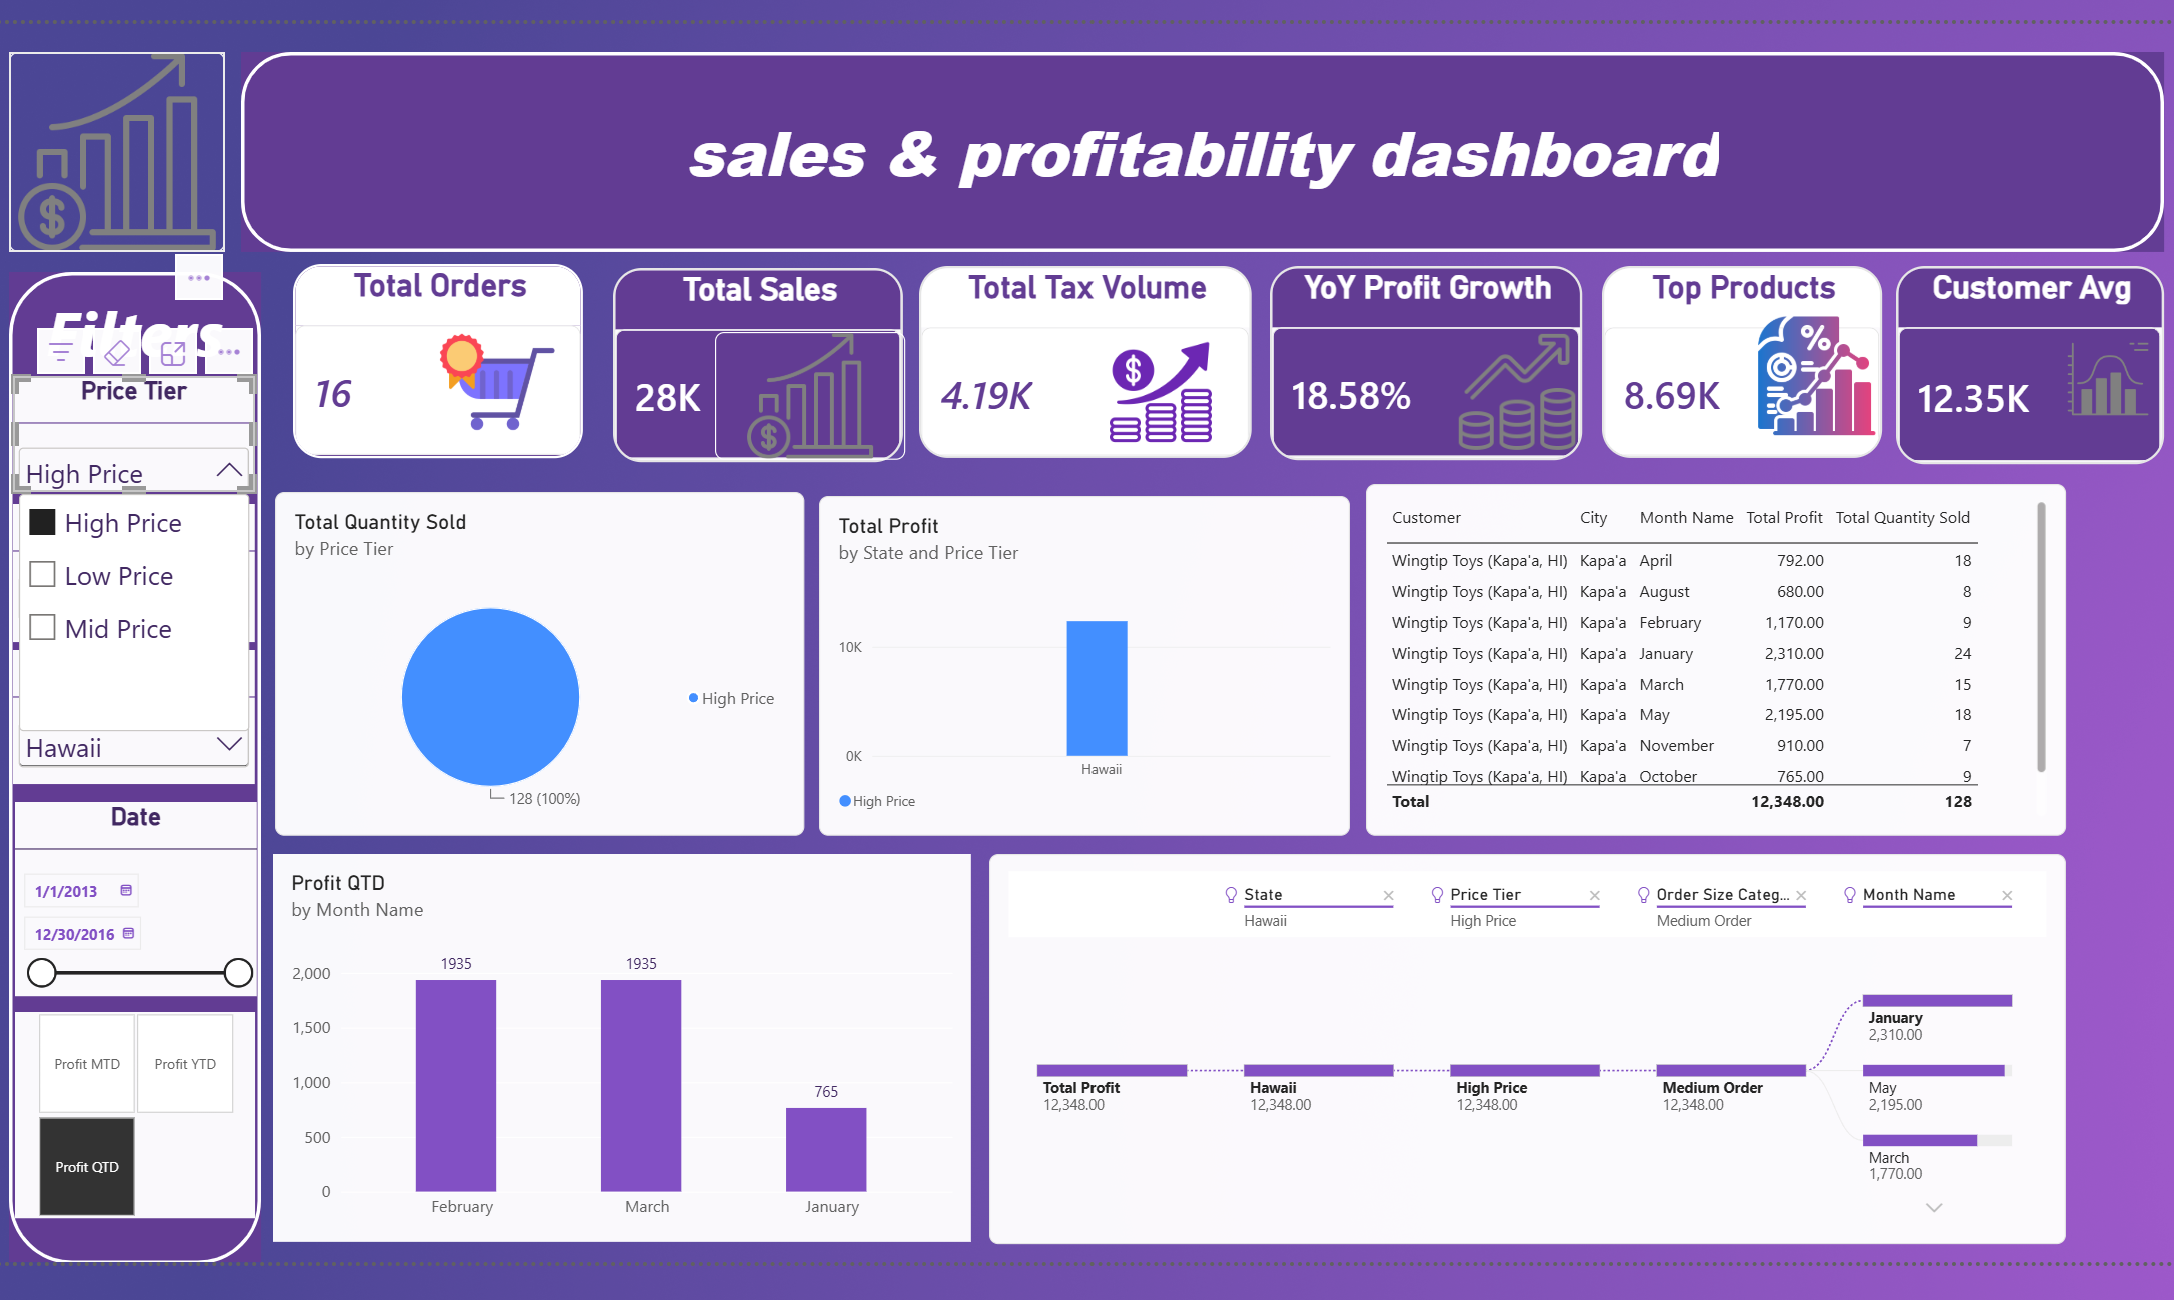

The dashboard page shown, as its layout file describes it:
{"tool":"powerbi","page":{"name":"DashBoard","canvas":[1920,1080],"ordinal":2},"visuals":[{"type":"cardVisual","title":"Total Orders","fields":{"Data":["Key Measures.Total Orders"]},"box":[261.8,209.5,253.1,169.3],"z":0},{"type":"shape","box":[216.4,24.4,1677.4,174.5],"z":1000},{"type":"shape","box":[14,216.4,219.9,865.7],"z":2000},{"type":"cardVisual","title":"Total Tax Volume","fields":{"Data":["Key Measures.Total Tax Collected"]},"box":[808.1,211.2,289.7,167.6],"z":3000},{"type":"cardVisual","title":"YoY Profit Growth","fields":{"Data":["Key Measures.Sales YoY Growth %"]},"box":[1113.6,211.2,272.3,169.3],"z":4000},{"type":"cardVisual","title":"Top Products ","fields":{"Data":["Key Measures.Top 5 Products Profit"]},"box":[1403.3,211.2,244.4,167.6],"z":5000},{"type":"slicer","title":"Price Tier","fields":{"Values":["DimStockItem2.Price Tier"]},"box":[17.5,307.2,211.2,101.2],"z":6000},{"type":"slicer","title":"Order Size Category","fields":{"Values":["FactSales1.Order Size Category"]},"box":[17.5,418.9,211.2,120.4],"z":7000},{"type":"slicer","title":"State","fields":{"Values":["Dimcity6.State"]},"box":[17.5,546.3,211.2,116.9],"z":8000},{"type":"pieChart","fields":{"Category":["DimStockItem2.Price Tier"],"Y":["Key Measures.Total Quantity Sold"]},"box":[245.9,408.1,462.2,300],"z":9000},{"type":"clusteredColumnChart","fields":{"Category":["DimDate4.Month Name"],"Y":["Key Measures.Profit QTD"]},"box":[244.4,724.4,609.2,338.6],"z":10000},{"type":"columnChart","fields":{"Category":["Dimcity6.State"],"Series":["DimStockItem2.Price Tier"],"Y":["Key Measures.Total Profit"]},"box":[720.9,411.9,462.5,296.7],"z":11000},{"type":"decompositionTreeVisual","fields":{"Analyze":["Key Measures.Total Profit"],"ExplainBy":["FactSales1.Order Size Category","DimStockItem2.Price Tier","Dimcity6.State","DimDate4.Month Name"]},"box":[869.2,724.4,939.1,340.4],"z":12000},{"type":"tableEx","fields":{"Values":["DimCustomer5.Customer","Dimcity6.City","DimDate4.Month Name","Key Measures.Total Profit","Key Measures.Total Quantity Sold"]},"box":[1197.4,401.5,610.9,307.2],"z":13000},{"type":"cardVisual","title":"Customer Avg ","fields":{"Data":["Key Measures.Avg Sales Per Customer"]},"box":[1659.9,211.2,233.9,172.8],"z":14000},{"type":"image","box":[14,24.4,188.5,174.5],"z":15000},{"type":"slicer","title":"Date","fields":{"Values":["DimDate4.Date"]},"box":[19.2,679,211.2,169.3],"z":16000},{"type":"image","box":[1523.8,247.9,136.1,118.7],"z":17000},{"type":"image","box":[974,260.1,89,122.2],"z":18000},{"type":"image","box":[1272.4,267.1,113.5,108.2],"z":19000},{"type":"image","box":[377,230.4,122.2,151.9],"z":20000},{"type":"image","box":[1808.3,247.9,73.3,123.9],"z":21000},{"type":"slicer","fields":{"Values":["Time Frame Selector.Time Frame Selector"]},"box":[19.2,862.3,209.5,179.8],"z":22000},{"type":"cardVisual","title":"Total Sales","fields":{"Data":["Key Measures.Total Revenue"]},"box":[541.1,212.9,253.1,169.3],"z":24000},{"type":"image","box":[630.1,268.8,165.8,111.7],"z":25000}]}

Visuals, with their boxes in screenshot pixels (x1, y1, x2, y2):
"Total Orders" cardVisual: BBox(286, 260, 579, 456)
shape: BBox(234, 45, 2173, 247)
shape: BBox(0, 268, 254, 1270)
"Total Tax Volume" cardVisual: BBox(919, 261, 1254, 456)
"YoY Profit Growth" cardVisual: BBox(1272, 261, 1587, 457)
"Top Products " cardVisual: BBox(1608, 261, 1891, 456)
"Price Tier" slicer: BBox(3, 373, 248, 490)
"Order Size Category" slicer: BBox(3, 502, 248, 641)
"State" slicer: BBox(3, 649, 248, 785)
pieChart - DimStockItem2.Price Tier x Key Measures.Total Quantity Sold: BBox(268, 489, 803, 837)
clusteredColumnChart - DimDate4.Month Name x Key Measures.Profit QTD: BBox(266, 856, 971, 1248)
columnChart - Dimcity6.State x DimStockItem2.Price Tier: BBox(818, 494, 1353, 837)
decompositionTreeVisual - Key Measures.Total Profit x FactSales1.Order Size Category: BBox(989, 856, 2076, 1250)
tableEx - DimCustomer5.Customer x Dimcity6.City: BBox(1369, 482, 2076, 837)
"Customer Avg " cardVisual: BBox(1905, 261, 2173, 462)
image: BBox(0, 45, 217, 247)
"Date" slicer: BBox(5, 803, 250, 999)
image: BBox(1747, 304, 1905, 441)
image: BBox(1111, 318, 1214, 460)
image: BBox(1456, 326, 1587, 451)
image: BBox(419, 284, 561, 460)
image: BBox(2076, 304, 2161, 447)
slicer - Time Frame Selector.Time Frame Selector: BBox(5, 1015, 248, 1223)
"Total Sales" cardVisual: BBox(609, 263, 902, 459)
image: BBox(712, 328, 904, 457)
